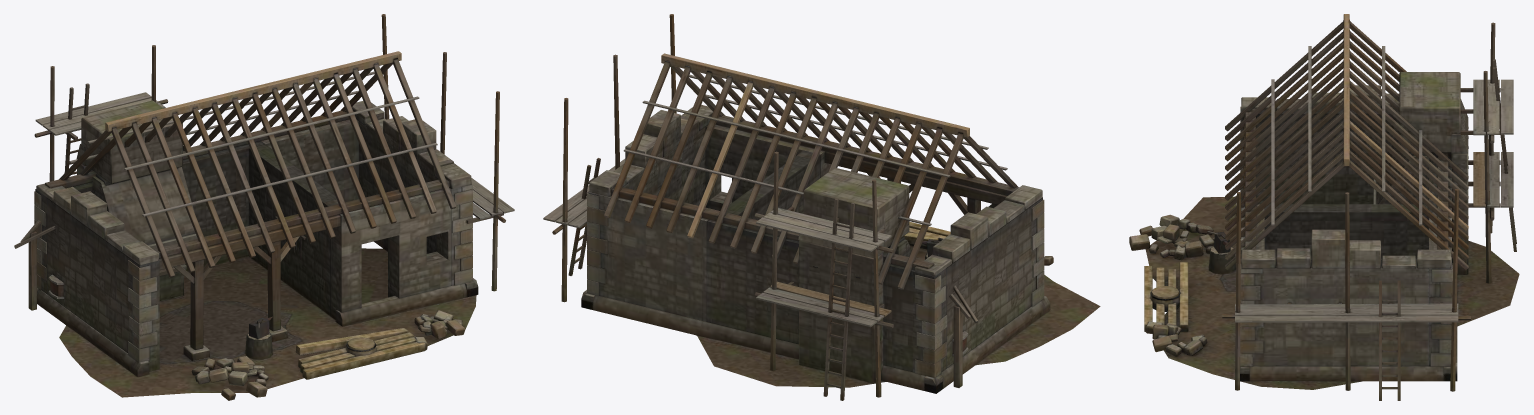
The model's file is blacksmith_build2.glb.
The picture shows the model from 3 angles, left to right: view 1: azimuth 30°, elevation 25°; view 2: azimuth 150°, elevation 25°; view 3: azimuth 270°, elevation 25°; orthographic projection. The views are drawn at different scales.
Visible parts, largest first — view 1: blacksmith_build2_LOD0; view 2: blacksmith_build2_LOD0; view 3: blacksmith_build2_LOD0.
Boxes of the visible parts, x1=… form: blacksmith_build2_LOD0: x1=14, y1=14, x2=514, y2=400; blacksmith_build2_LOD0: x1=543, y1=14, x2=1100, y2=400; blacksmith_build2_LOD0: x1=1129, y1=14, x2=1519, y2=400.
Size of what is drawn, in the model's own units: 11.51 by 5.52 by 9.26.
Materials: 1 (1 with a texture image).
